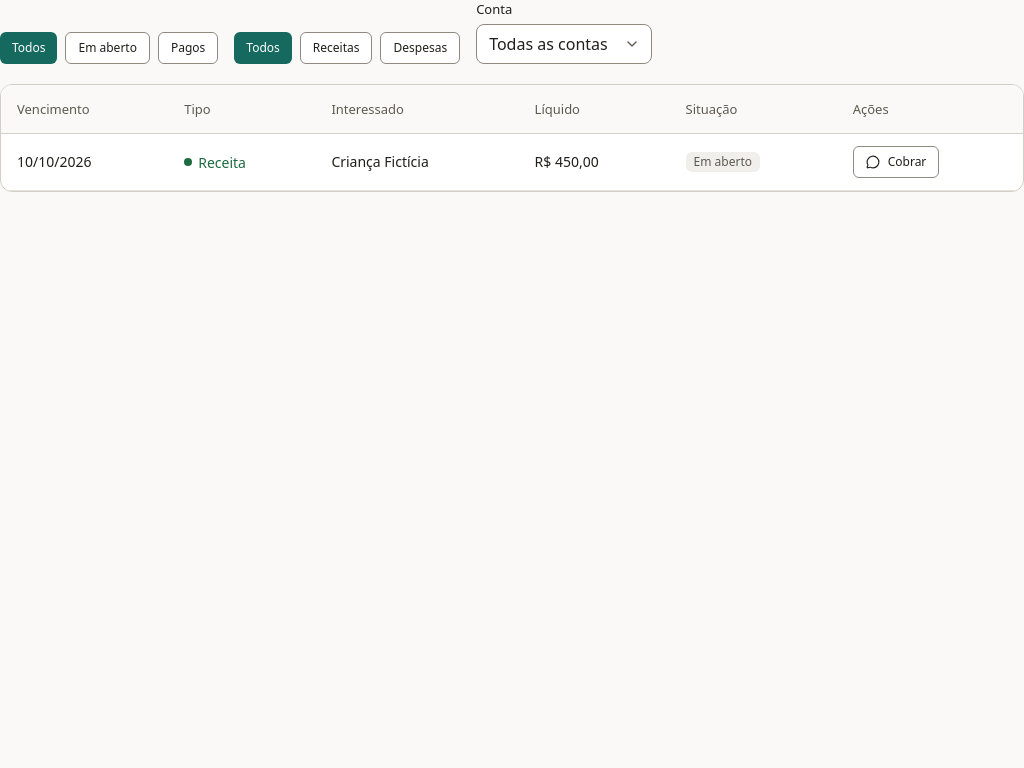
Test case: Lista de lançamentos — "Cobrar pelo WhatsApp" › deve abrir a cobrança da linha, sem que a lista tenha carregado telefone
The image size is (1024, 768).
Click the button with aria-label "Cobrar pelo WhatsApp": click(896, 162) x1=853 y1=146 x2=939 y2=178
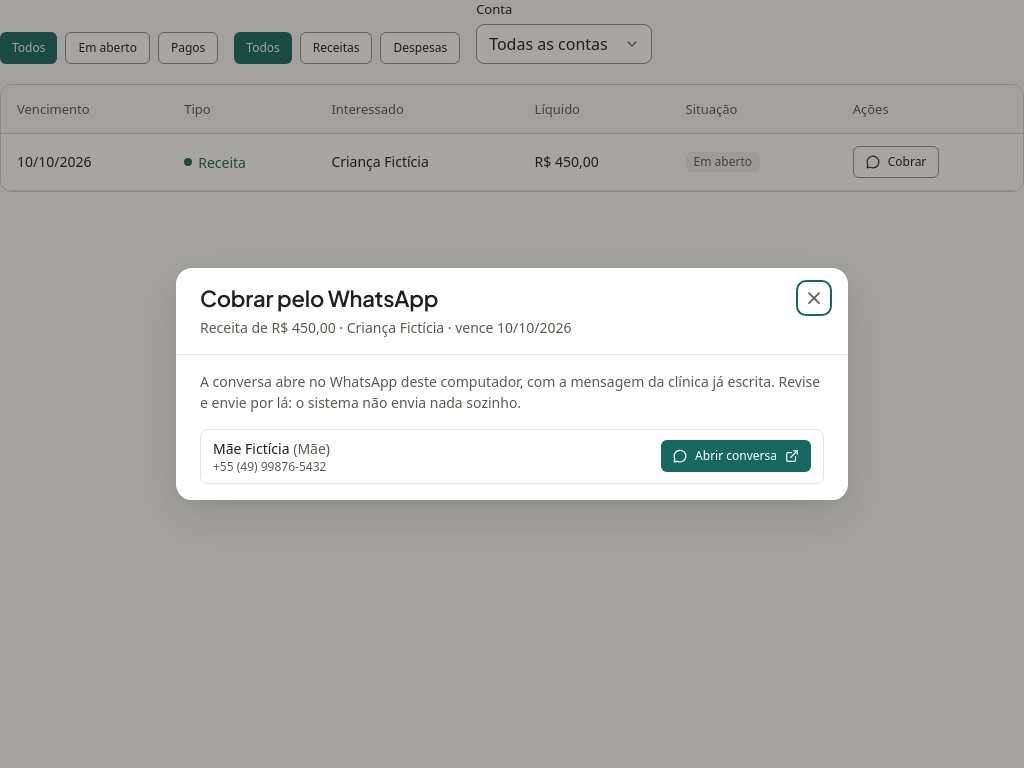
Check: the link with aria-label "Abrir conversa com Mãe Fictícia" is shown, box x1=661 y1=440 x2=811 y2=472
